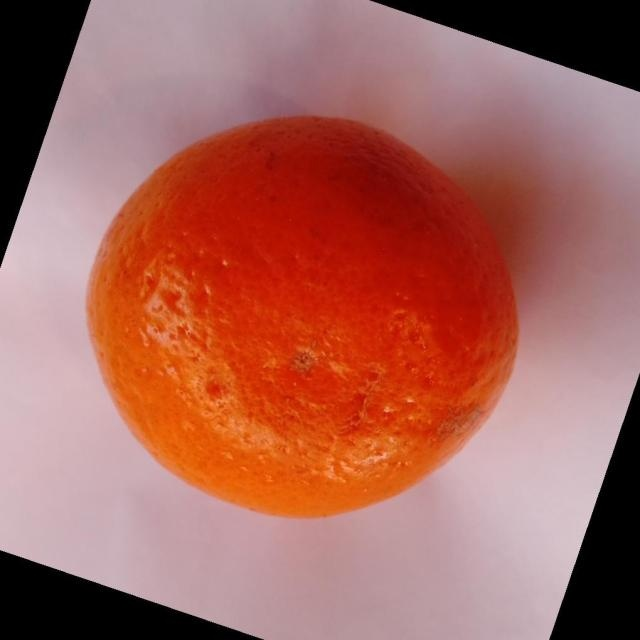agrume: (84, 112, 520, 520)
